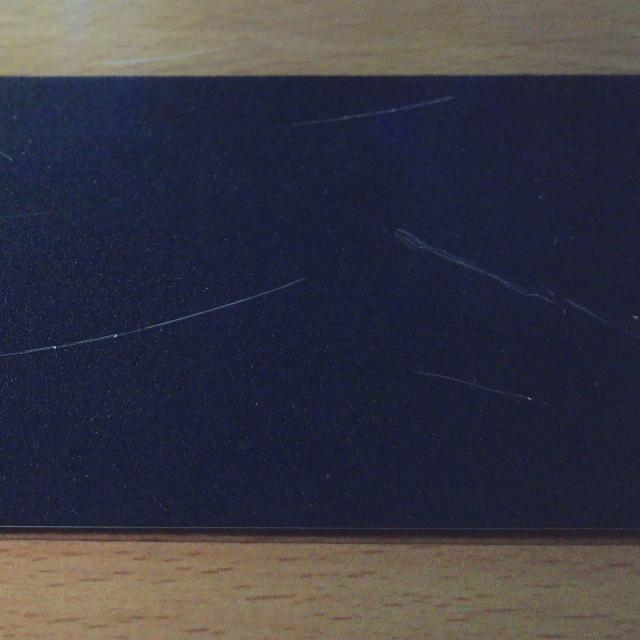defect: (398, 228, 640, 345), (4, 276, 307, 356), (282, 94, 452, 126), (422, 370, 533, 402)
